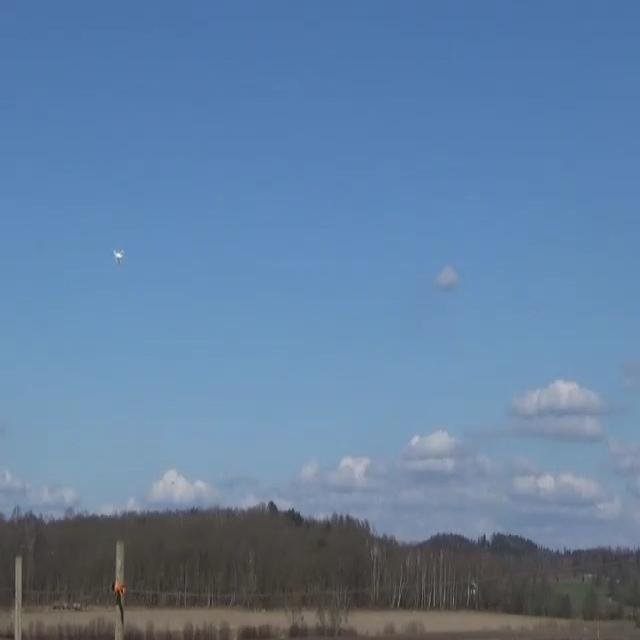drone: (112, 248, 124, 264)
